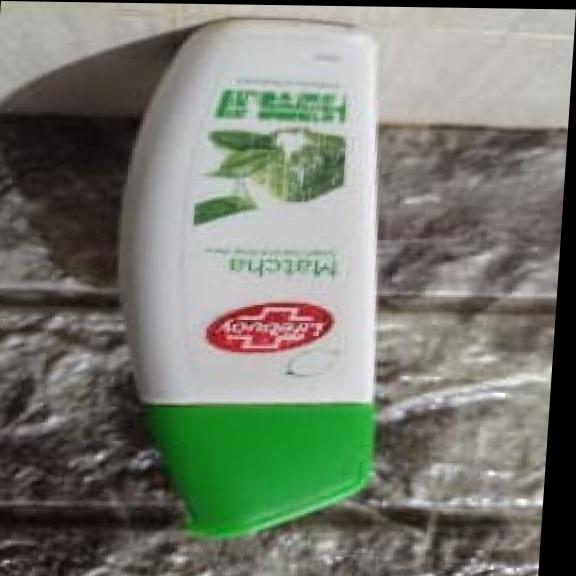Plastik: (113, 9, 417, 535)
